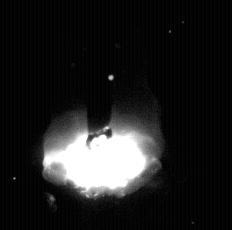arame: (89, 0, 113, 142)
poca: (43, 0, 163, 230)
